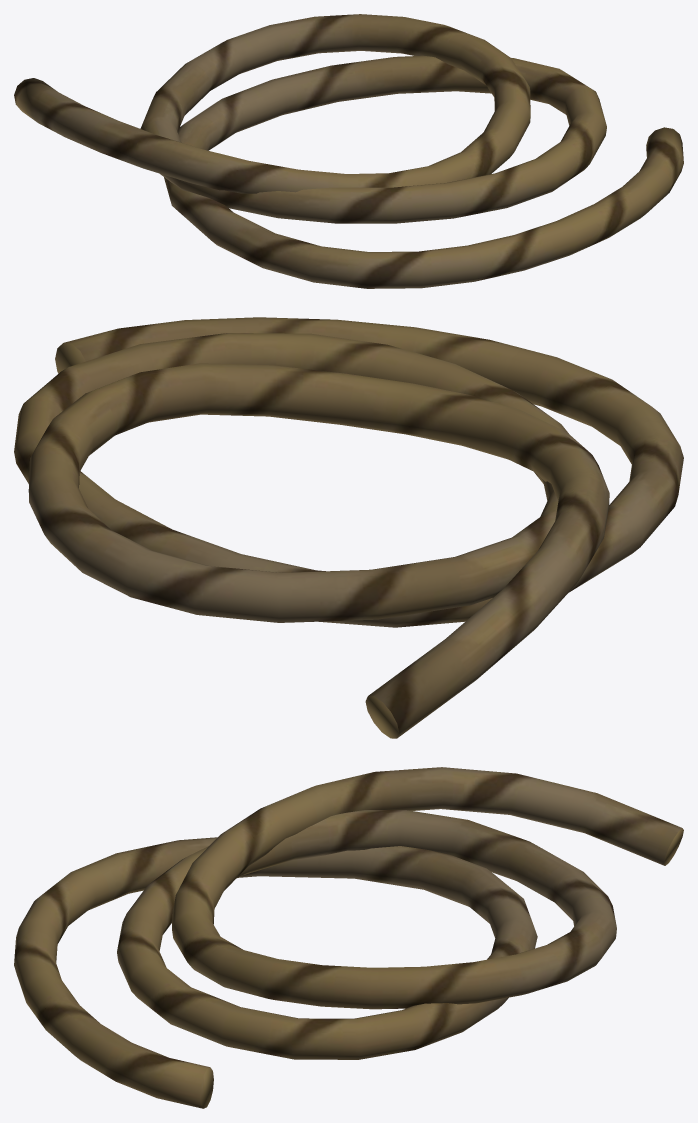
Rendered from rope_2.gltf.
The picture shows the model from 3 angles, top to bottom: view 1: azimuth 30°, elevation 25°; view 2: azimuth 150°, elevation 25°; view 3: azimuth 270°, elevation 25°; orthographic projection. The views are drawn at different scales.
Parts seen in each view (by area): view 1: Rope_2; view 2: Rope_2; view 3: Rope_2.
Part boxes in pixels (left/top/right/bottom): Rope_2: left=14, top=14, right=683, bottom=288; Rope_2: left=14, top=317, right=683, bottom=738; Rope_2: left=14, top=767, right=683, bottom=1108.
Bounding box in the file's own units: 0.8078 × 0.1236 × 0.845.
1 material, 1 textured.
